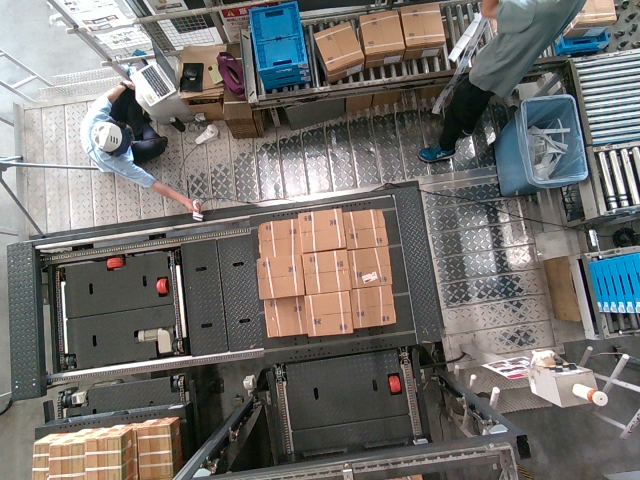box: (298, 207, 346, 251), (301, 252, 349, 294), (255, 255, 301, 297), (261, 296, 306, 338), (352, 286, 396, 328), (306, 293, 350, 335), (348, 246, 389, 289), (255, 218, 299, 258), (346, 210, 388, 248)
